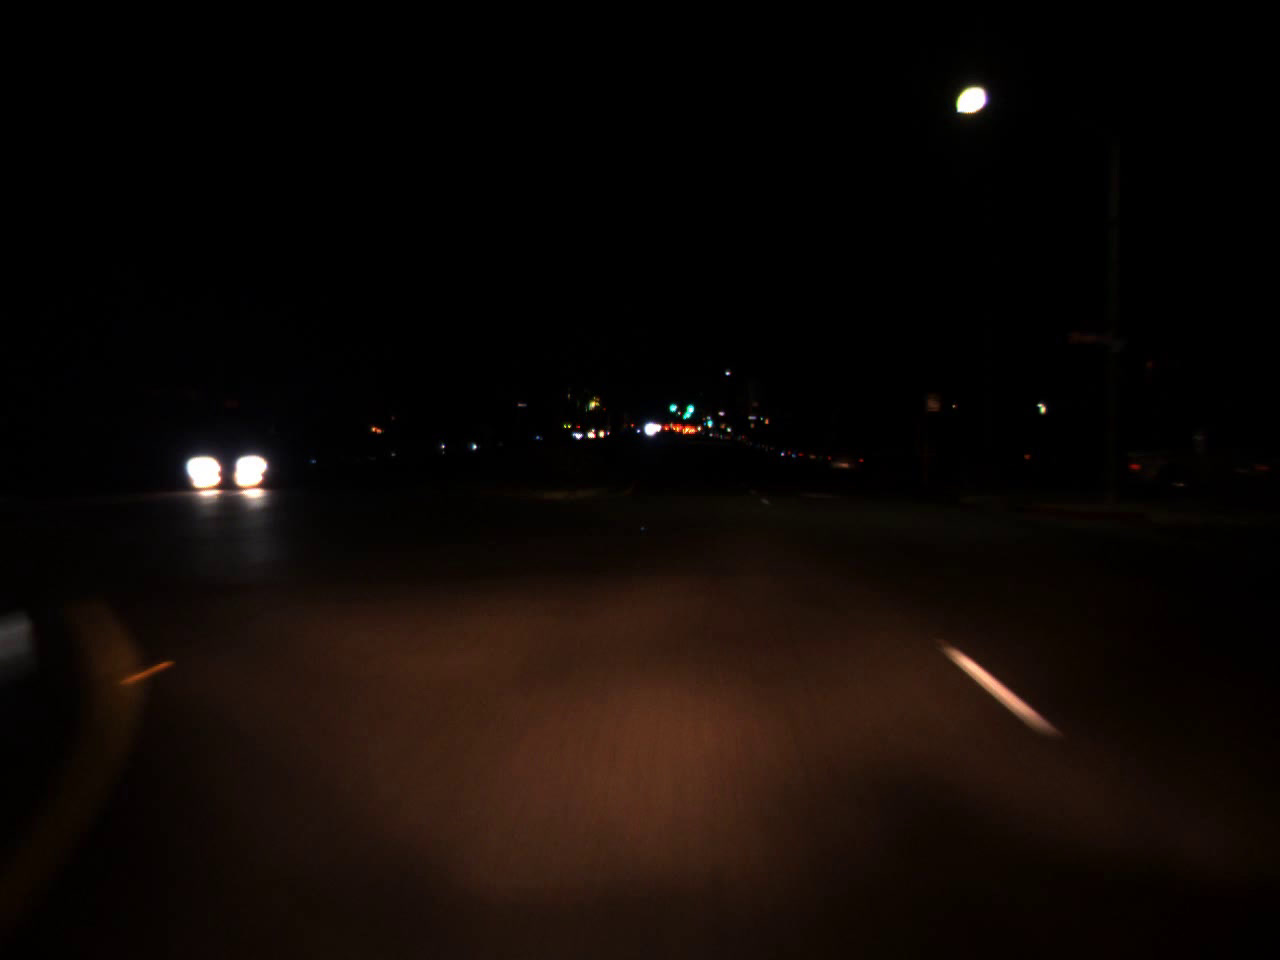go: (682, 394, 696, 418), (667, 394, 677, 415), (706, 414, 713, 426)
